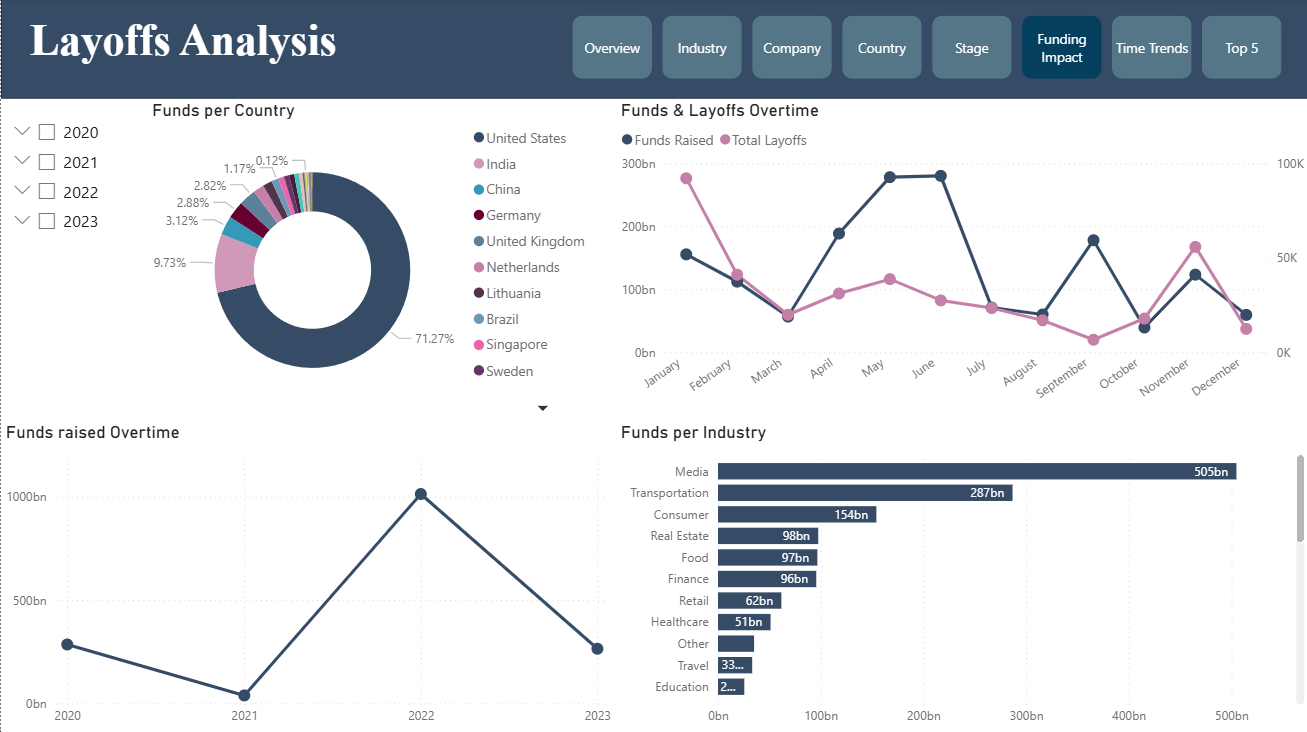

This screenshot's page, from the dashboard's own definition file:
{"tool":"powerbi","page":{"name":"Funding Impact","canvas":[1280,720],"ordinal":5},"visuals":[{"type":"shape","box":[0,0,1280.3,98.8],"z":0},{"type":"textbox","box":[23.3,12.3,333.4,74.1],"z":1000},{"type":"donutChart","title":"Funds per Country","fields":{"Category":["layoffs_projcet layoffs.country"],"Y":["Sum(layoffs_projcet layoffs.Funds_raised)"]},"box":[143.1,99,458.6,315.5],"z":2000},{"type":"lineChart","title":"Funds raised Overtime","fields":{"Y":["Sum(layoffs_projcet layoffs.Funds_raised)"],"Category":["layoffs_projcet layoffs.date.Variation.Date Hierarchy.Year","layoffs_projcet layoffs.date.Variation.Date Hierarchy.Quarter","layoffs_projcet layoffs.date.Variation.Date Hierarchy.Month","layoffs_projcet layoffs.date.Variation.Date Hierarchy.Day"]},"box":[0,414.5,601.6,305.7],"z":3000},{"type":"lineChart","title":"Funds & Layoffs Overtime","fields":{"Y":["Sum(layoffs_projcet layoffs.Funds_raised)"],"Y2":["Sum(layoffs_projcet layoffs.total_laid_off)"],"Category":["layoffs_projcet layoffs.date.Variation.Date Hierarchy.Year","layoffs_projcet layoffs.date.Variation.Date Hierarchy.Quarter","layoffs_projcet layoffs.date.Variation.Date Hierarchy.Month","layoffs_projcet layoffs.date.Variation.Date Hierarchy.Day"]},"box":[601.6,99,678.7,315.5],"z":4000},{"type":"barChart","title":"Funds per Industry","fields":{"Y":["Sum(layoffs_projcet layoffs.Funds_raised)"],"Category":["layoffs_projcet layoffs.industry"]},"box":[601.6,414.5,678.7,305.7],"z":5000},{"type":"slicer","fields":{"Values":["layoffs_projcet layoffs.date.Variation.Date Hierarchy.Year","layoffs_projcet layoffs.date.Variation.Date Hierarchy.Quarter","layoffs_projcet layoffs.date.Variation.Date Hierarchy.Month","layoffs_projcet layoffs.date.Variation.Date Hierarchy.Day"]},"box":[0,111.3,143.1,248.2],"z":6000},{"type":"pageNavigator","box":[558.8,17.1,701.9,62.4],"z":7000}]}

Visuals, with their boxes in screenshot pixels (x1, y1, x2, y2), scaled from the page's 1280x720 canvas onto the 1307x732 screenshot:
shape: pyautogui.locateOnScreen(0, 0, 1306, 100)
textbox: pyautogui.locateOnScreen(24, 13, 364, 88)
"Funds per Country" donutChart: pyautogui.locateOnScreen(146, 101, 614, 421)
"Funds raised Overtime" lineChart: pyautogui.locateOnScreen(0, 421, 614, 731)
"Funds & Layoffs Overtime" lineChart: pyautogui.locateOnScreen(614, 101, 1306, 421)
"Funds per Industry" barChart: pyautogui.locateOnScreen(614, 421, 1306, 731)
slicer - layoffs_projcet layoffs.date.Variation.Date Hierarchy.Year x layoffs_projcet layoffs.date.Variation.Date Hierarchy.Quarter: pyautogui.locateOnScreen(0, 113, 146, 365)
pageNavigator: pyautogui.locateOnScreen(571, 17, 1287, 81)
